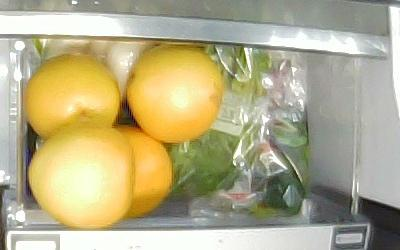grapefruit: (27, 125, 135, 228), (126, 48, 224, 142), (25, 55, 120, 141)
